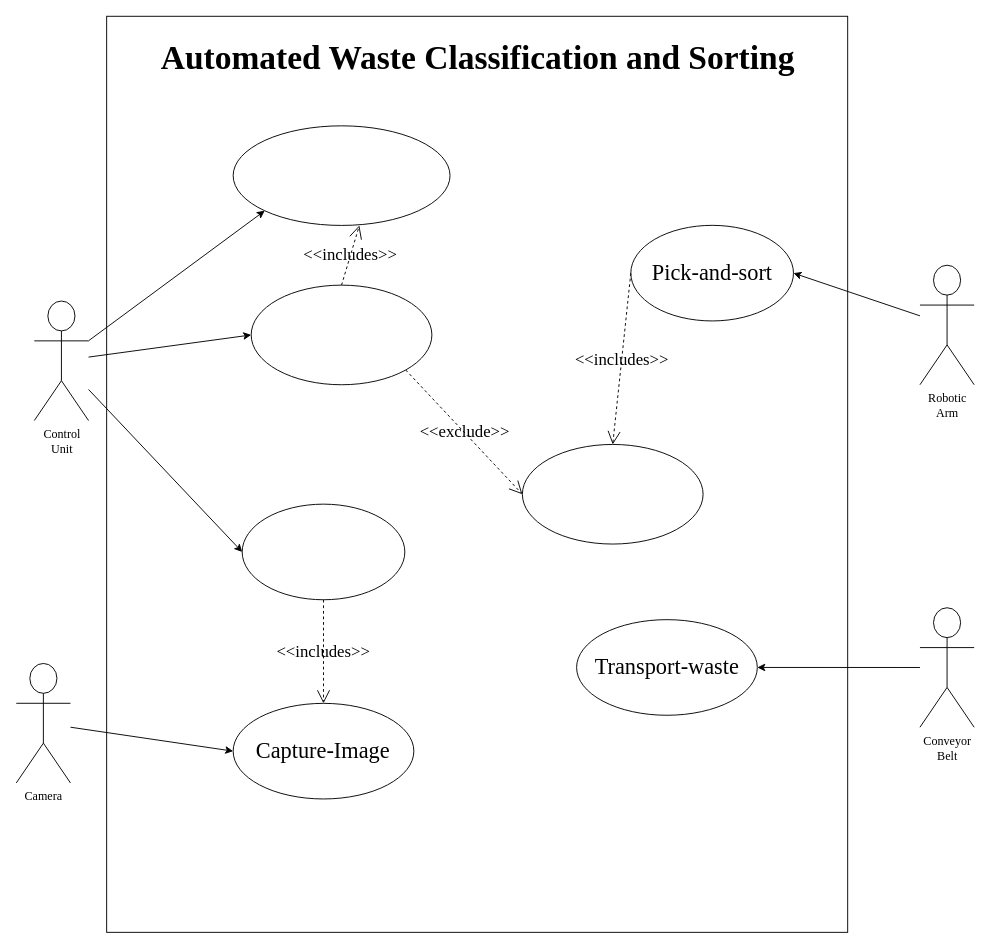
Image size: 990x949. Some labels were removed from this diagram. Each missing label, with the centre of its shape:
"Calculate-Coordinate" goes at [341,175].
"Classify-Waste" goes at [323,551].
"Send-Coordinate" goes at [612,494].
"Transform -Coordinate" goes at [341,334].
